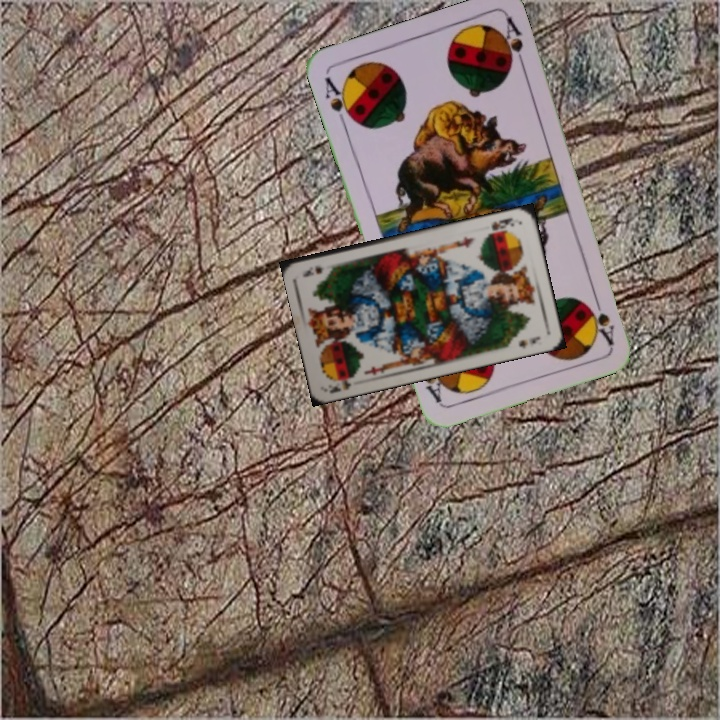SA: (320, 73, 358, 129), (585, 289, 618, 347)
SK: (325, 372, 357, 396), (487, 214, 516, 233)
